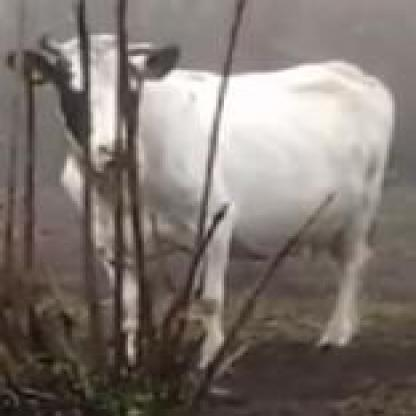cow: (4, 28, 396, 376)
